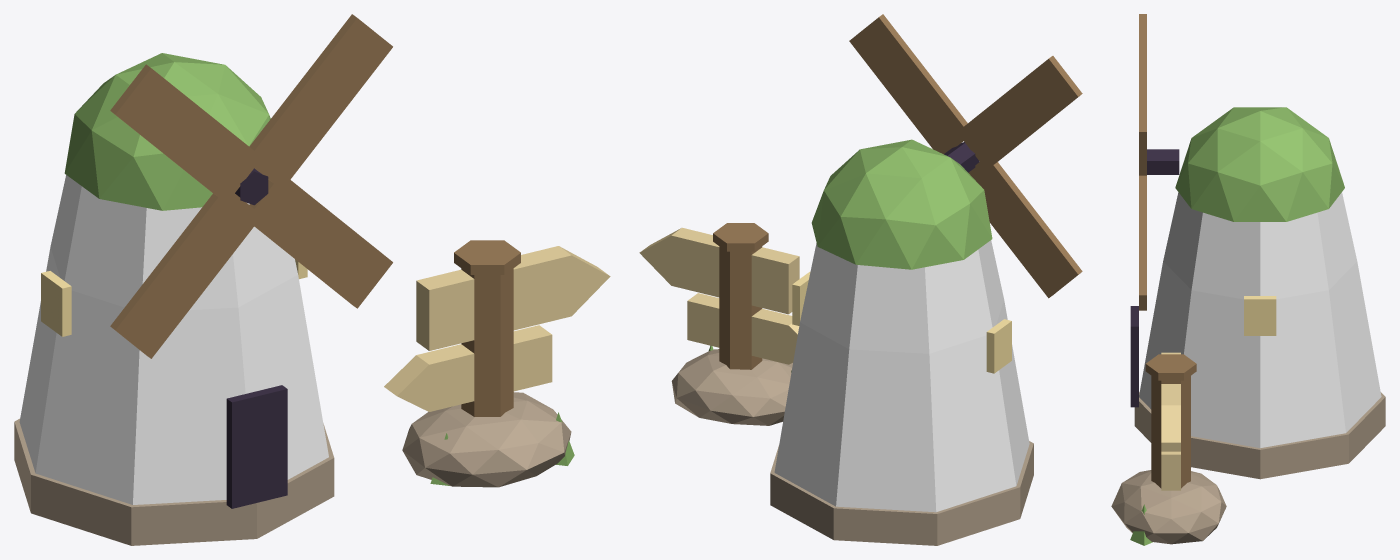
The model's file is meadow-landmark-s2.glb.
3 views of the same model, side by side, from view 1: azimuth 30°, elevation 25°; view 2: azimuth 150°, elevation 25°; view 3: azimuth 270°, elevation 25° (orthographic). The views are drawn at different scales.
Parts seen in each view (by area): view 1: meadow-landmark-s2; view 2: meadow-landmark-s2; view 3: meadow-landmark-s2.
Part boxes in pixels (x1=…): meadow-landmark-s2: x1=14, y1=14, x2=610, y2=545; meadow-landmark-s2: x1=639, y1=14, x2=1082, y2=545; meadow-landmark-s2: x1=1111, y1=14, x2=1385, y2=545.
Bounding box in the file's own units: 1.11 × 1.02 × 0.6779.
